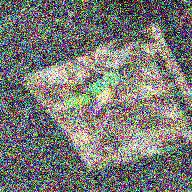러키펜정: (71, 130, 91, 145)
씨엠지세파클러캡슐: (87, 89, 113, 115)
에르도캡슐: (86, 70, 122, 95)
휴티렌정: (65, 94, 95, 108)
